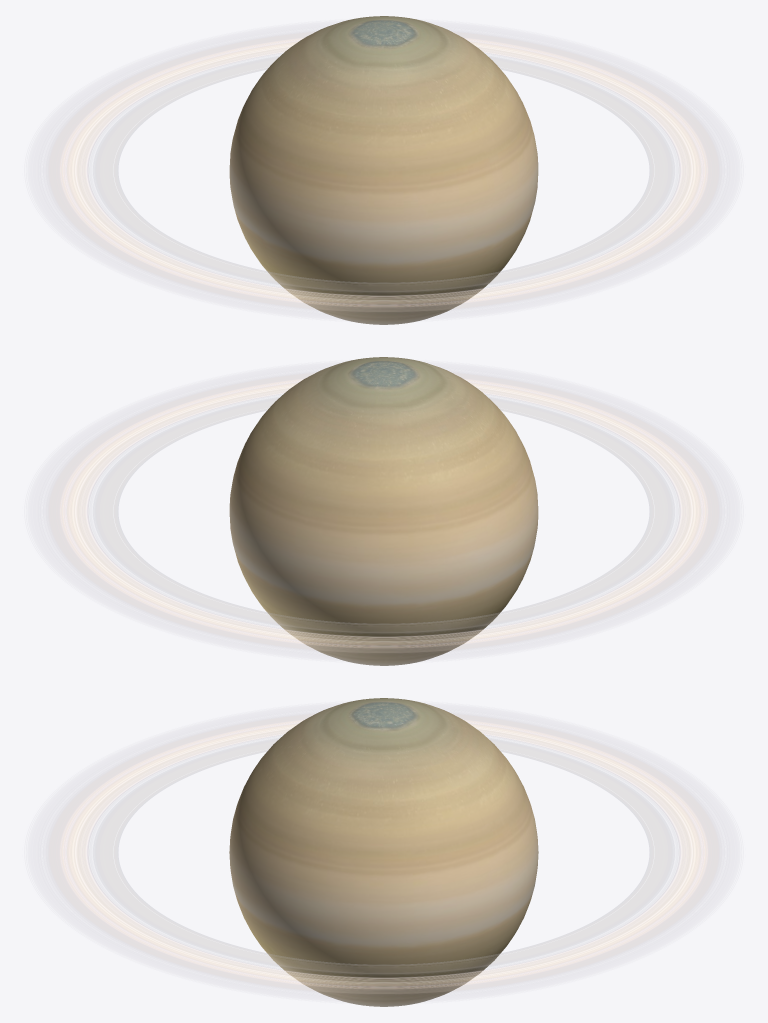
3 renders of one model, top to bottom at view 1: azimuth 30°, elevation 25°; view 2: azimuth 150°, elevation 25°; view 3: azimuth 270°, elevation 25°, orthographic.
Visible parts, largest first — view 1: Sphere, Circle; view 2: Sphere, Circle; view 3: Sphere, Circle.
Part boxes in pixels (left/top/right/bottom): Sphere: left=229, top=16, right=538, bottom=324; Circle: left=47, top=31, right=720, bottom=312; Sphere: left=229, top=357, right=538, bottom=665; Circle: left=47, top=372, right=720, bottom=653; Sphere: left=229, top=698, right=538, bottom=1006; Circle: left=47, top=713, right=720, bottom=994.
Size of the model in its own units: 6.18 by 2.58 by 6.18.
2 materials, 2 textured.
